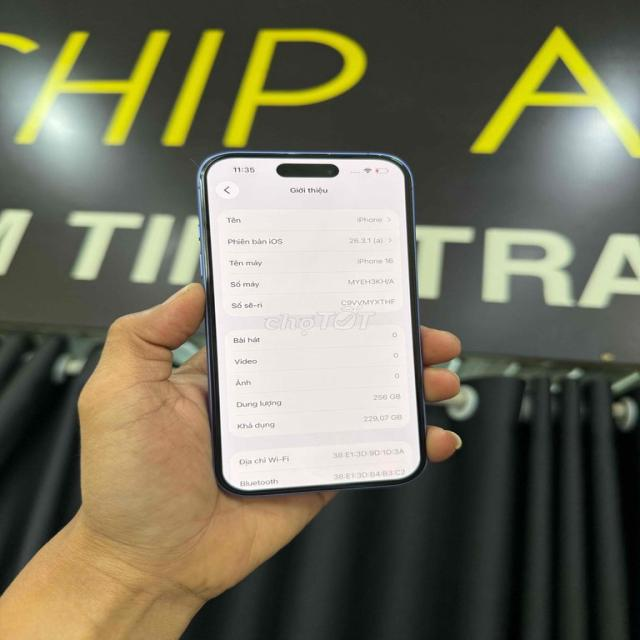gen_16: (199, 152, 425, 496)
